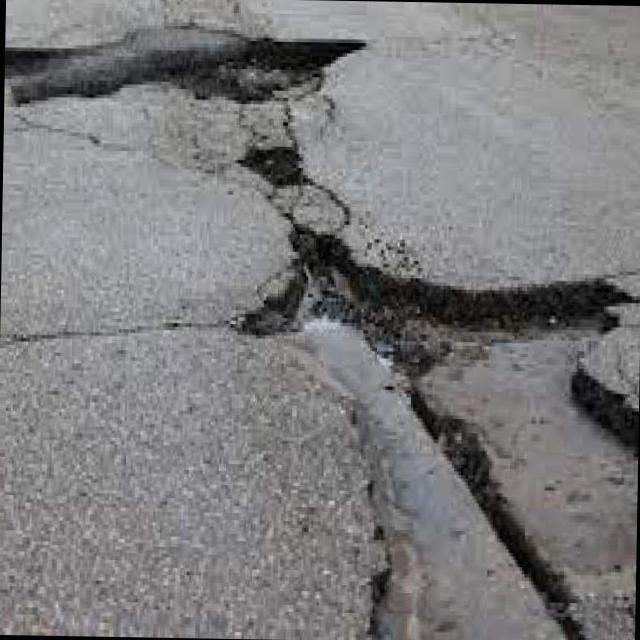Pothole: (233, 139, 638, 640), (4, 30, 366, 132)
